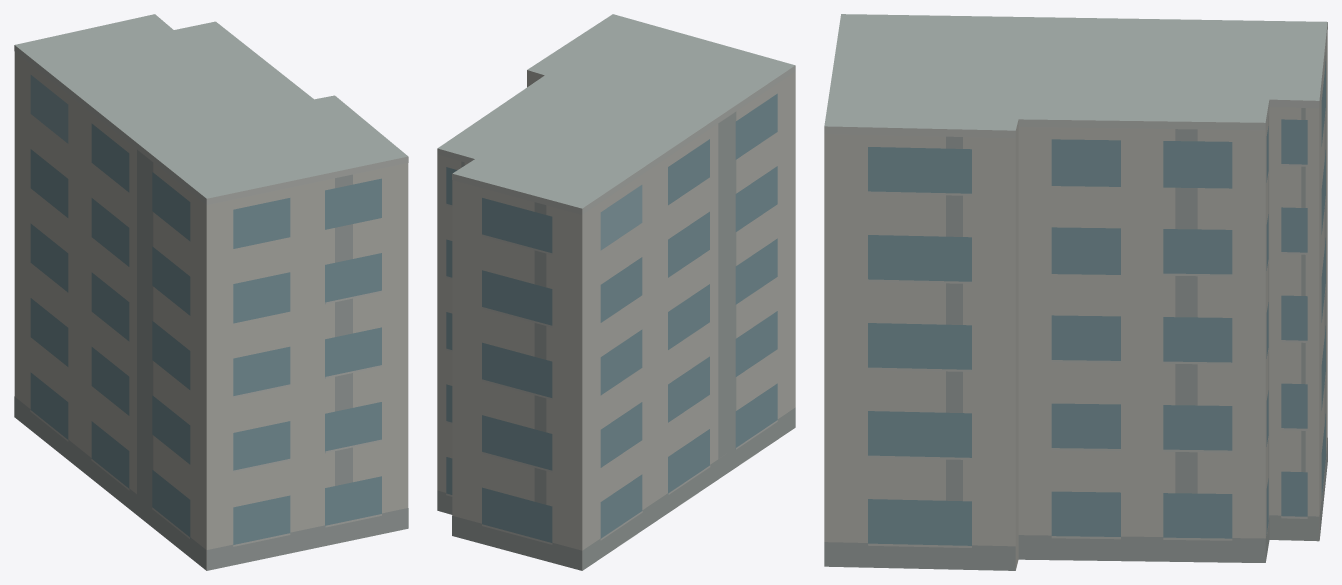
The model's file is survey-upis-32894382.glb.
The picture shows the model from 3 angles, left to right: view 1: azimuth 30°, elevation 25°; view 2: azimuth 150°, elevation 25°; view 3: azimuth 270°, elevation 25°; orthographic projection. The views are drawn at different scales.
Visible parts, largest first — view 1: survey-upis-32894382.tmp; view 2: survey-upis-32894382.tmp; view 3: survey-upis-32894382.tmp.
Boxes of the visible parts, x1,y1,x2,y2 form: survey-upis-32894382.tmp: (14,14,408,570); survey-upis-32894382.tmp: (437,14,795,570); survey-upis-32894382.tmp: (824,14,1327,570).
Bounding box in the file's own units: 8.08 × 14.2 × 14.73.
